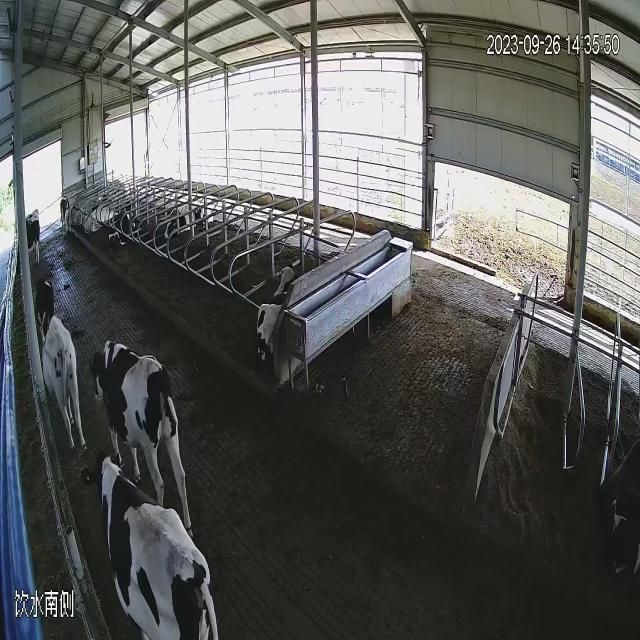lying down: (249, 260, 300, 368), (150, 198, 214, 243)
standing: (78, 443, 220, 640), (85, 320, 201, 546)
